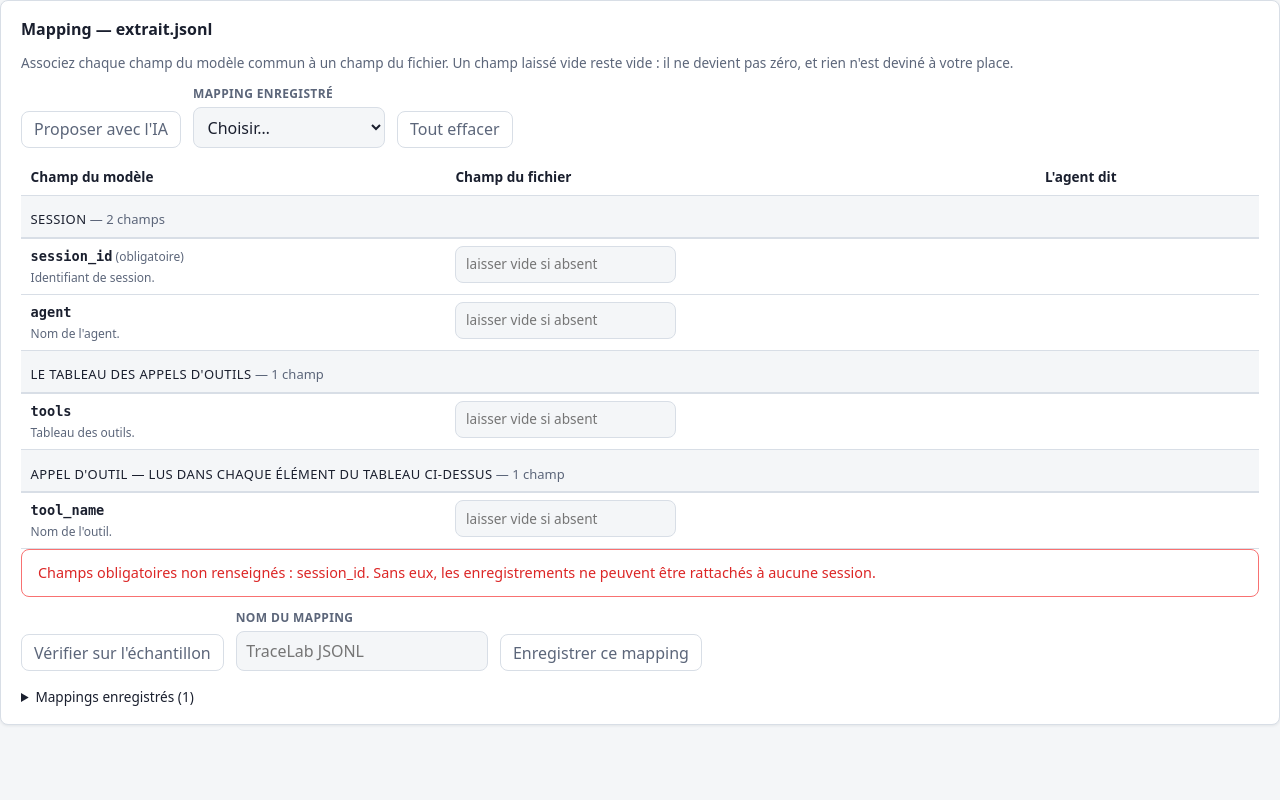
Scenario: MappingEditor — la bibliothèque › recharge un mapping enregistré dans le formulaire
The image size is (1280, 800).
Select "TraceLab (tracelab)" in the dropdown labelled "Mapping enregistré" at (289, 128), box [193, 107, 385, 148]
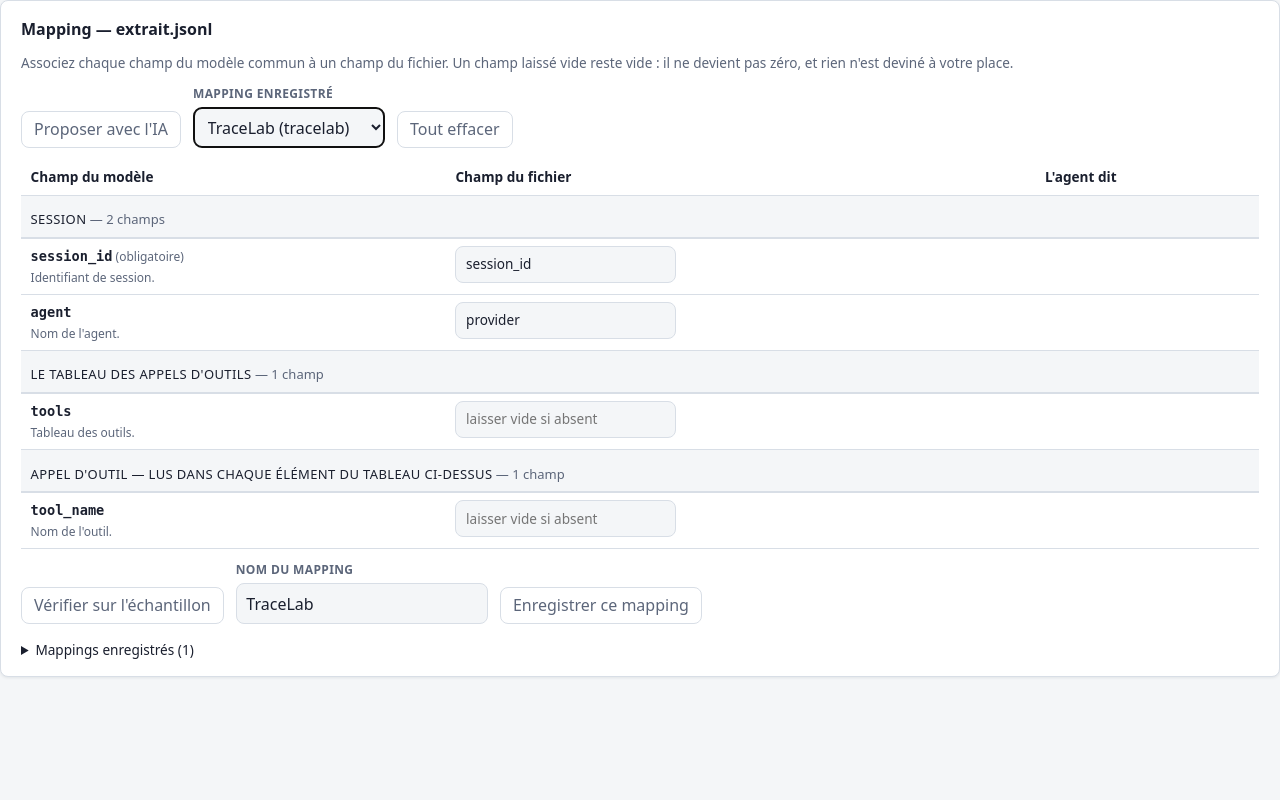
Result: the field named "Champ du fichier pour session_id" holds "session_id" at [455, 246, 676, 283]
Result: the field named "Champ du fichier pour agent" holds "provider" at [455, 302, 676, 339]
